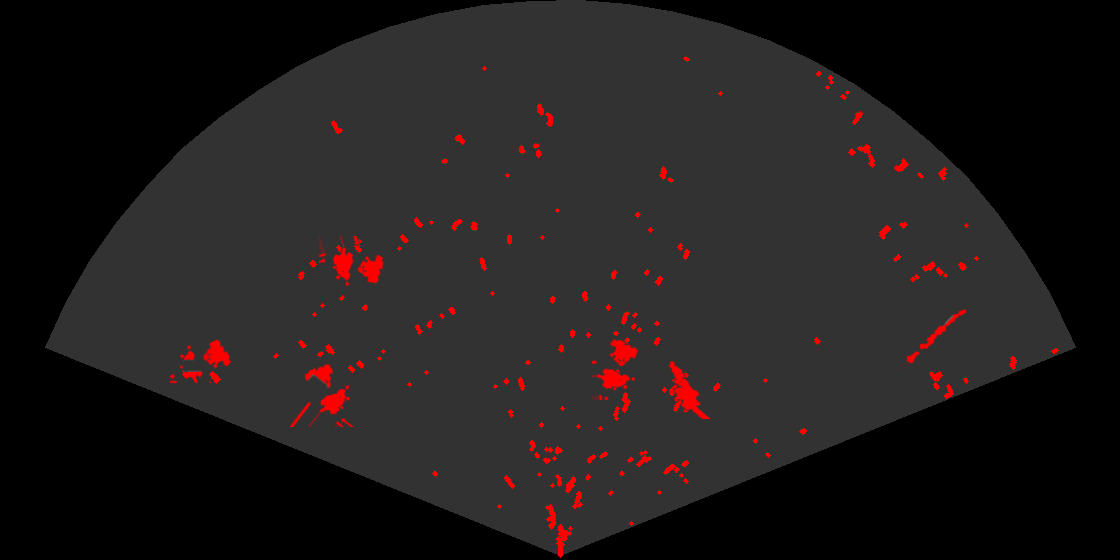cage: (288, 362, 356, 427), (319, 236, 385, 288), (592, 337, 640, 400), (170, 338, 233, 383)
chain: (898, 308, 968, 369)
frogman: (667, 359, 712, 419)
